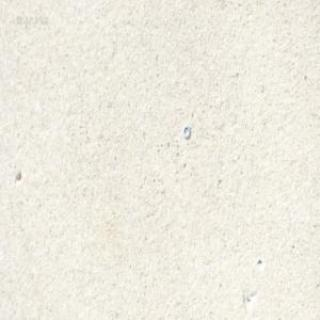Washertrack_idkeyframe: (175, 119, 205, 150)
